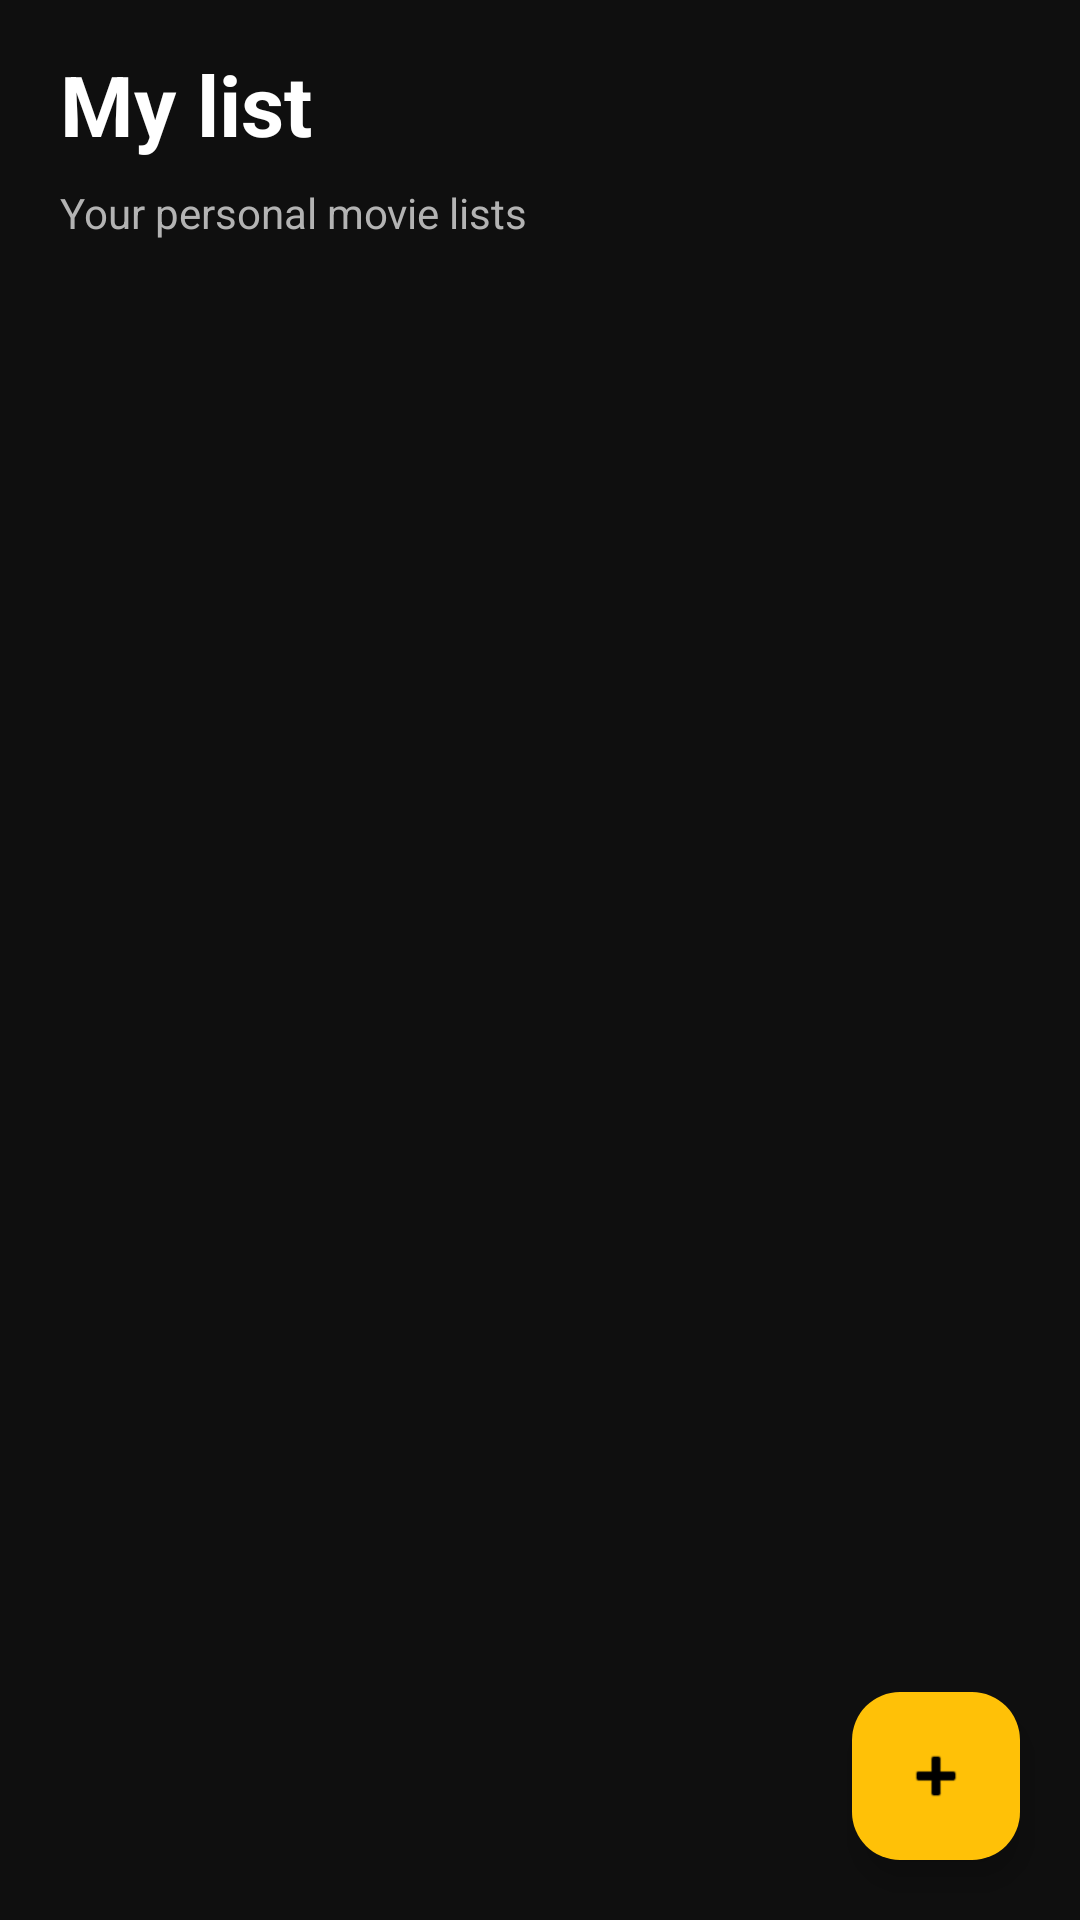

Where icons sit on this 1080w x 1920h app screen, as (x1, y1, x2, y2):
Create: (852, 1692, 1020, 1860)
